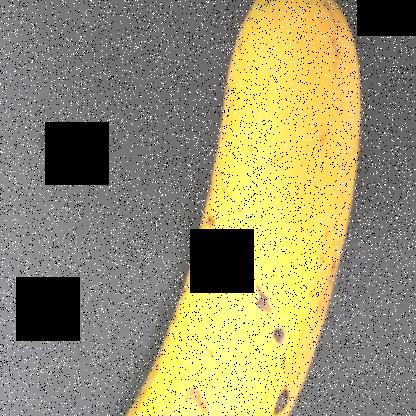ripe: (105, 1, 372, 415)
